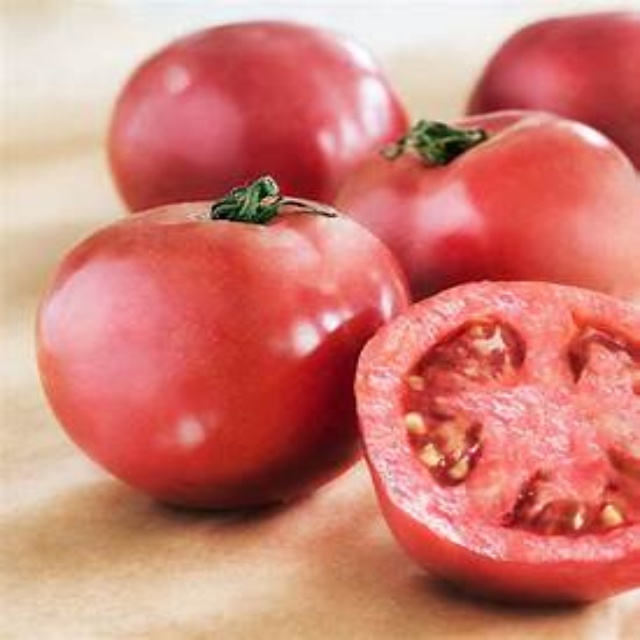tomato: (44, 196, 415, 526), (356, 285, 639, 594), (118, 18, 406, 212), (360, 125, 639, 312), (483, 18, 639, 162)
